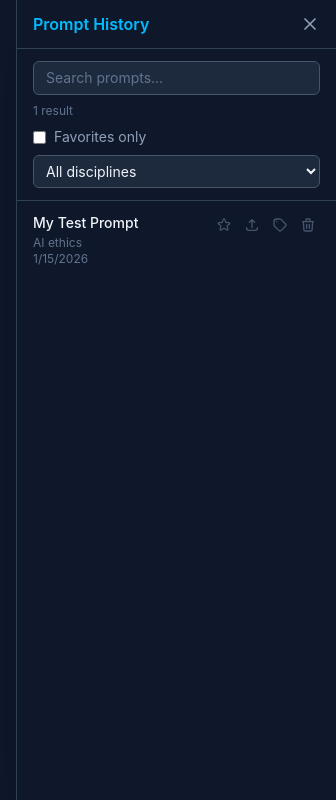
PromptHistory — delete › hides confirmation when Cancel is clicked
Expected: the text "My Test Prompt" is shown, [33, 214, 138, 231]
Click the button named "delete prompt": (308, 225) [296, 213, 320, 237]
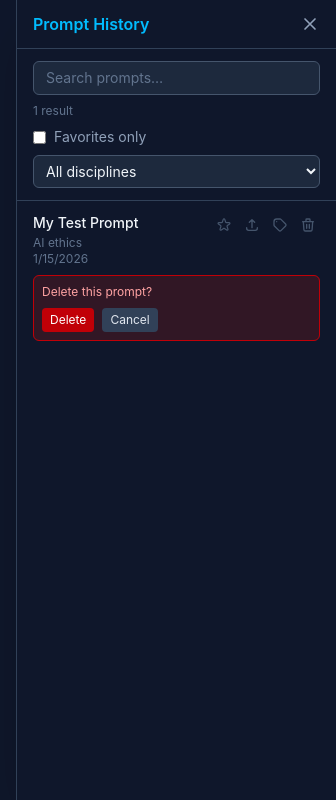
Click the button "Cancel": (130, 320) [102, 308, 158, 332]
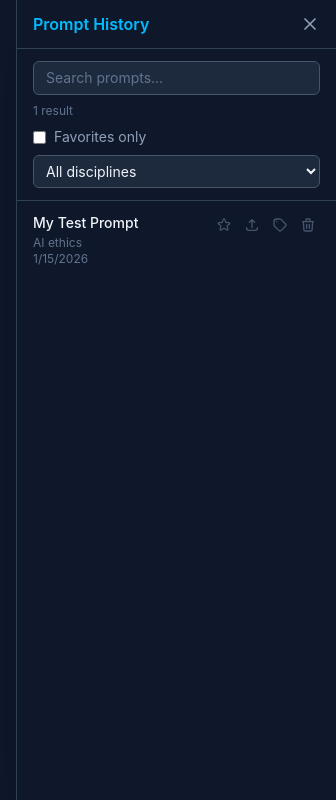
Expected: the text "Delete this prompt?" is gone
